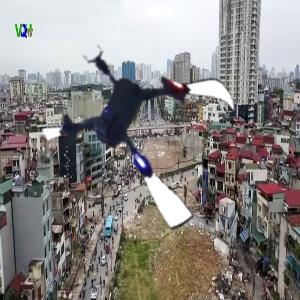drone: (46, 28, 250, 232)
